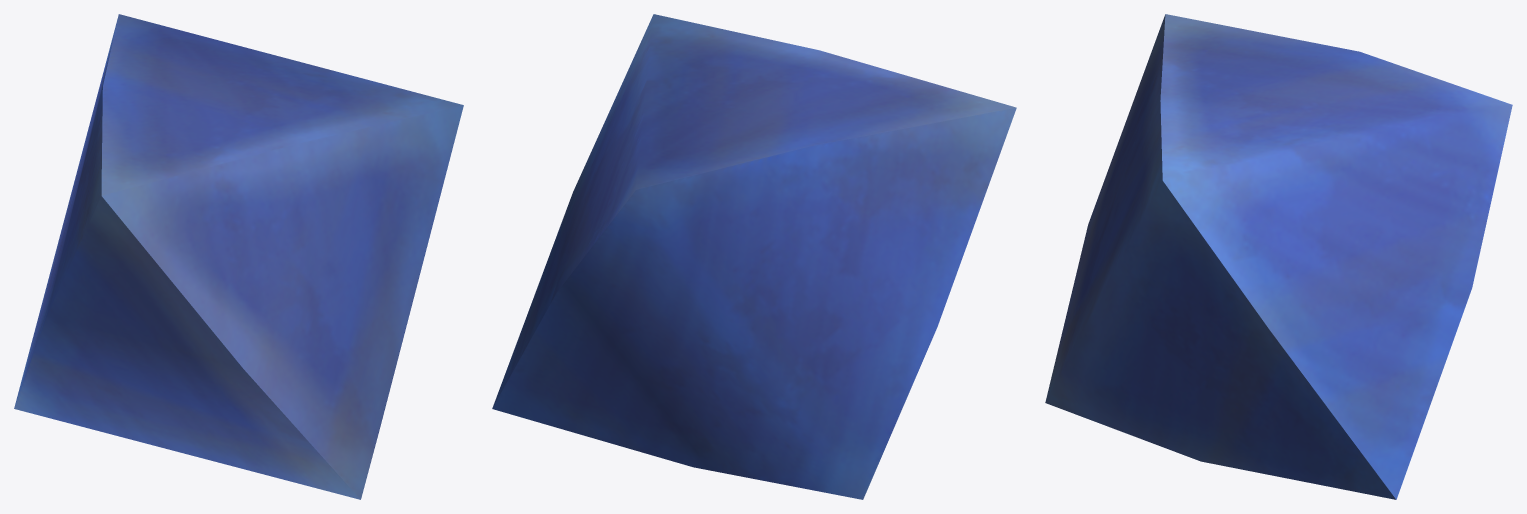
The model's file is SM_Potion_Props_Loot_Gem_03_A.fbx.
3 views of the same model, side by side, from view 1: azimuth 30°, elevation 25°; view 2: azimuth 150°, elevation 25°; view 3: azimuth 270°, elevation 25° (orthographic). The views are drawn at different scales.
Visible parts, largest first — view 1: SM_Potion_Props_Loot_Gem_03_A_LOD0; view 2: SM_Potion_Props_Loot_Gem_03_A_LOD0; view 3: SM_Potion_Props_Loot_Gem_03_A_LOD0.
Part boxes in pixels (x1,y1,x2,y2): SM_Potion_Props_Loot_Gem_03_A_LOD0: [14, 14, 463, 499]; SM_Potion_Props_Loot_Gem_03_A_LOD0: [492, 14, 1016, 499]; SM_Potion_Props_Loot_Gem_03_A_LOD0: [1045, 14, 1512, 499].
Size of what is drawn, in the model's own units: 5.36 by 4.22 by 5.62.
